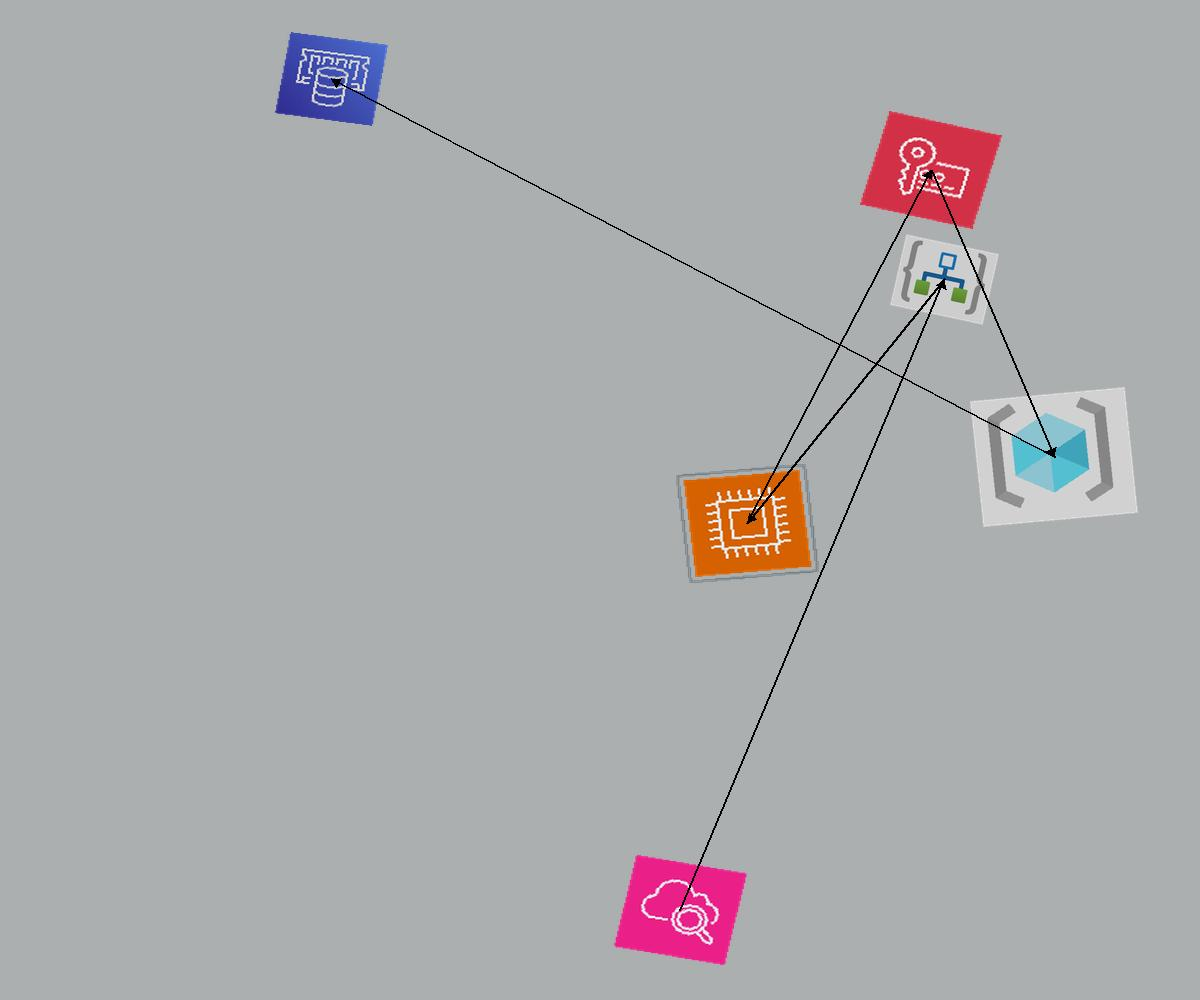AWS-Category_Compute: (675, 463, 820, 584)
AWS-CloudWatch: (613, 854, 748, 966)
AWS-ElastiCache: (275, 32, 388, 126)
AWS-Key-Management-Service: (860, 111, 1002, 229)
Azure_integration-204-Logic-Apps: (890, 234, 999, 325)
Azure_resource_group: (970, 387, 1138, 527)
